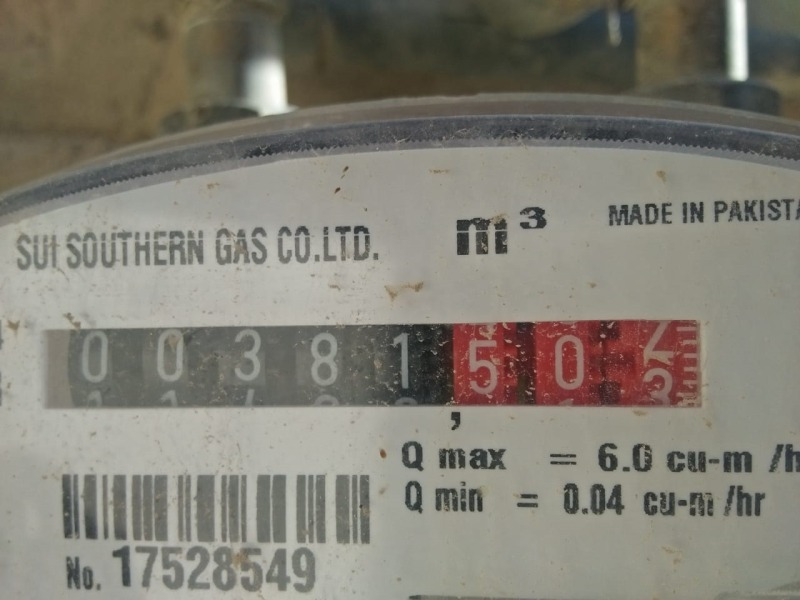ssgc: (35, 318, 702, 416)
